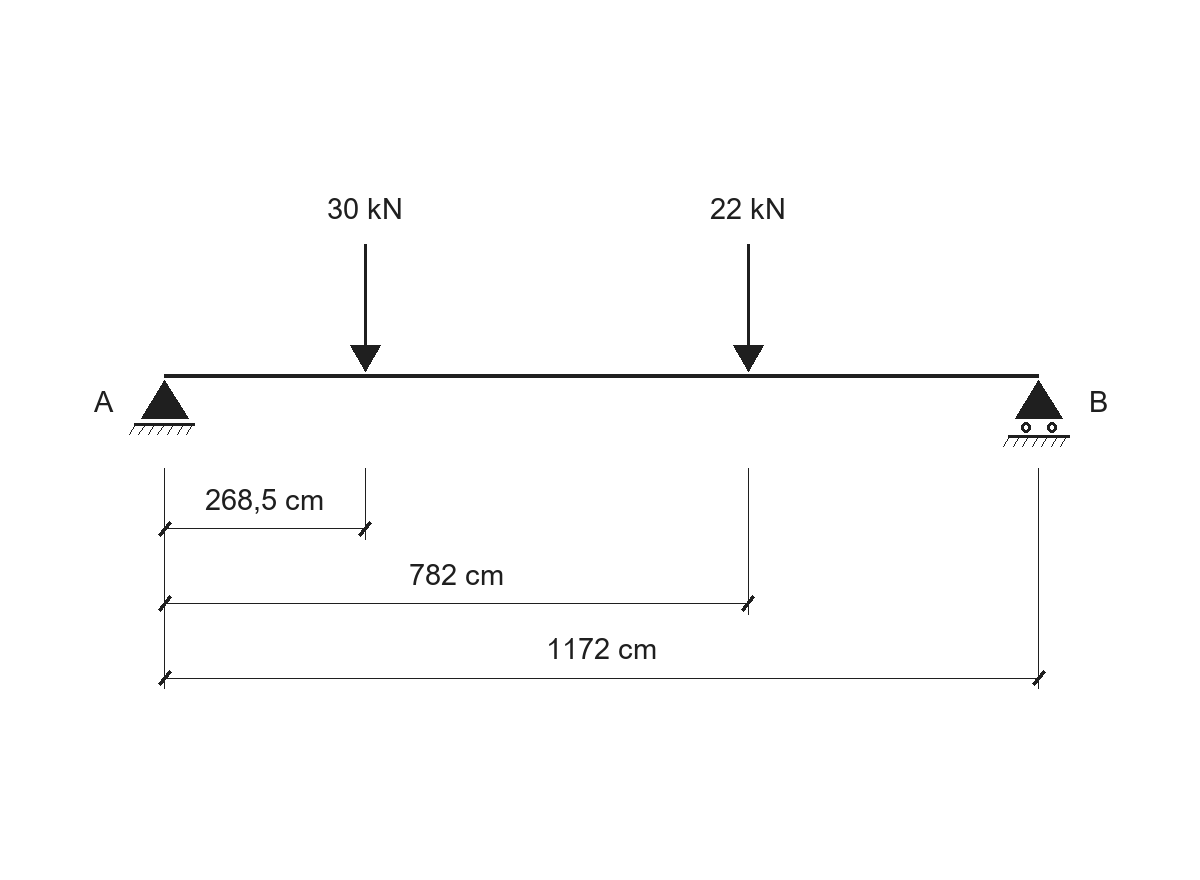pin_support: (129, 380, 195, 435)
point_load: (350, 244, 381, 372), (733, 244, 764, 372)
roller_support: (1003, 380, 1070, 447)
